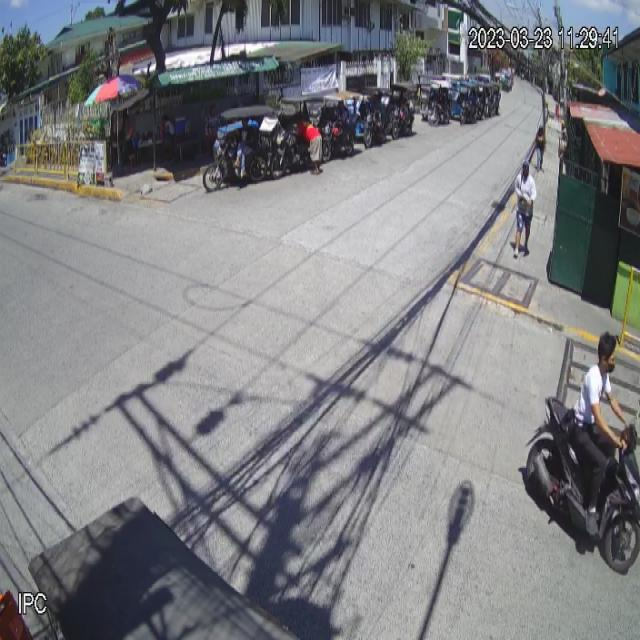Motorcycle: (522, 385, 640, 574)
